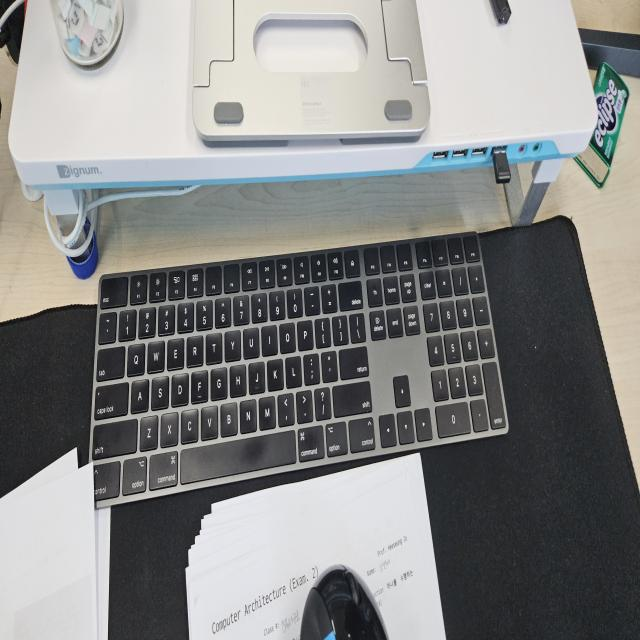Keyboard: (87, 230, 510, 508)
Mouse: (298, 560, 390, 637)
